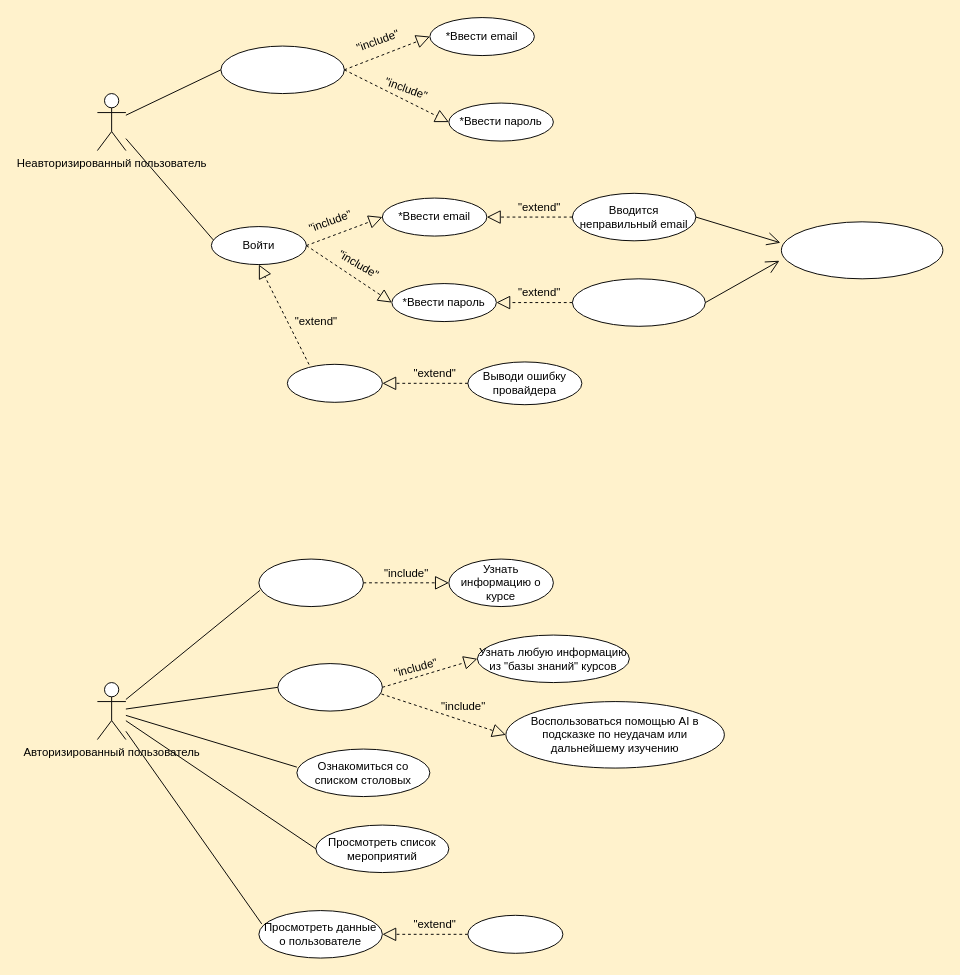
Image size: 960x975. Some labels were removed from this diagram. Here are the shapes that lost their labels. From the top down, the centre of each, then its label:
the point at 282,69: Зарегистироваться
the point at 861,250: Выводится ошибка о некорректно введенных данных
the point at 638,302: Вводится неправильный пароль
the point at 334,382: OAuth2.0
the point at 310,582: Просмотреть список курсов
the point at 329,687: Воспользоваться Build-in AI
the point at 515,933: Выйти из системы
